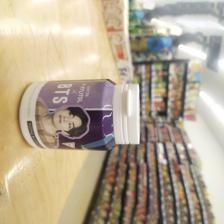Xylitol_BTS: (16, 77, 141, 152)
